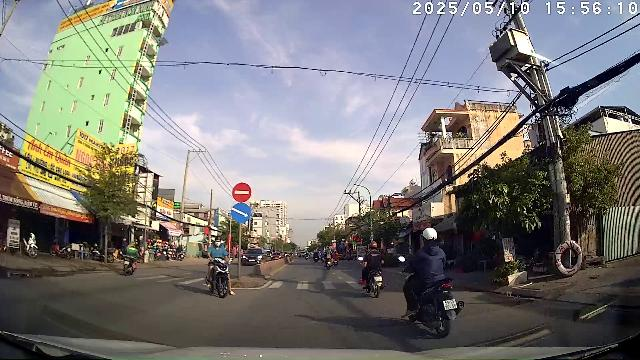102-cam-di-nguoc-chieu: (232, 182, 252, 202)
302a-huong-phai-di-vong-chuong-ngai-vat-1: (230, 203, 252, 223)
